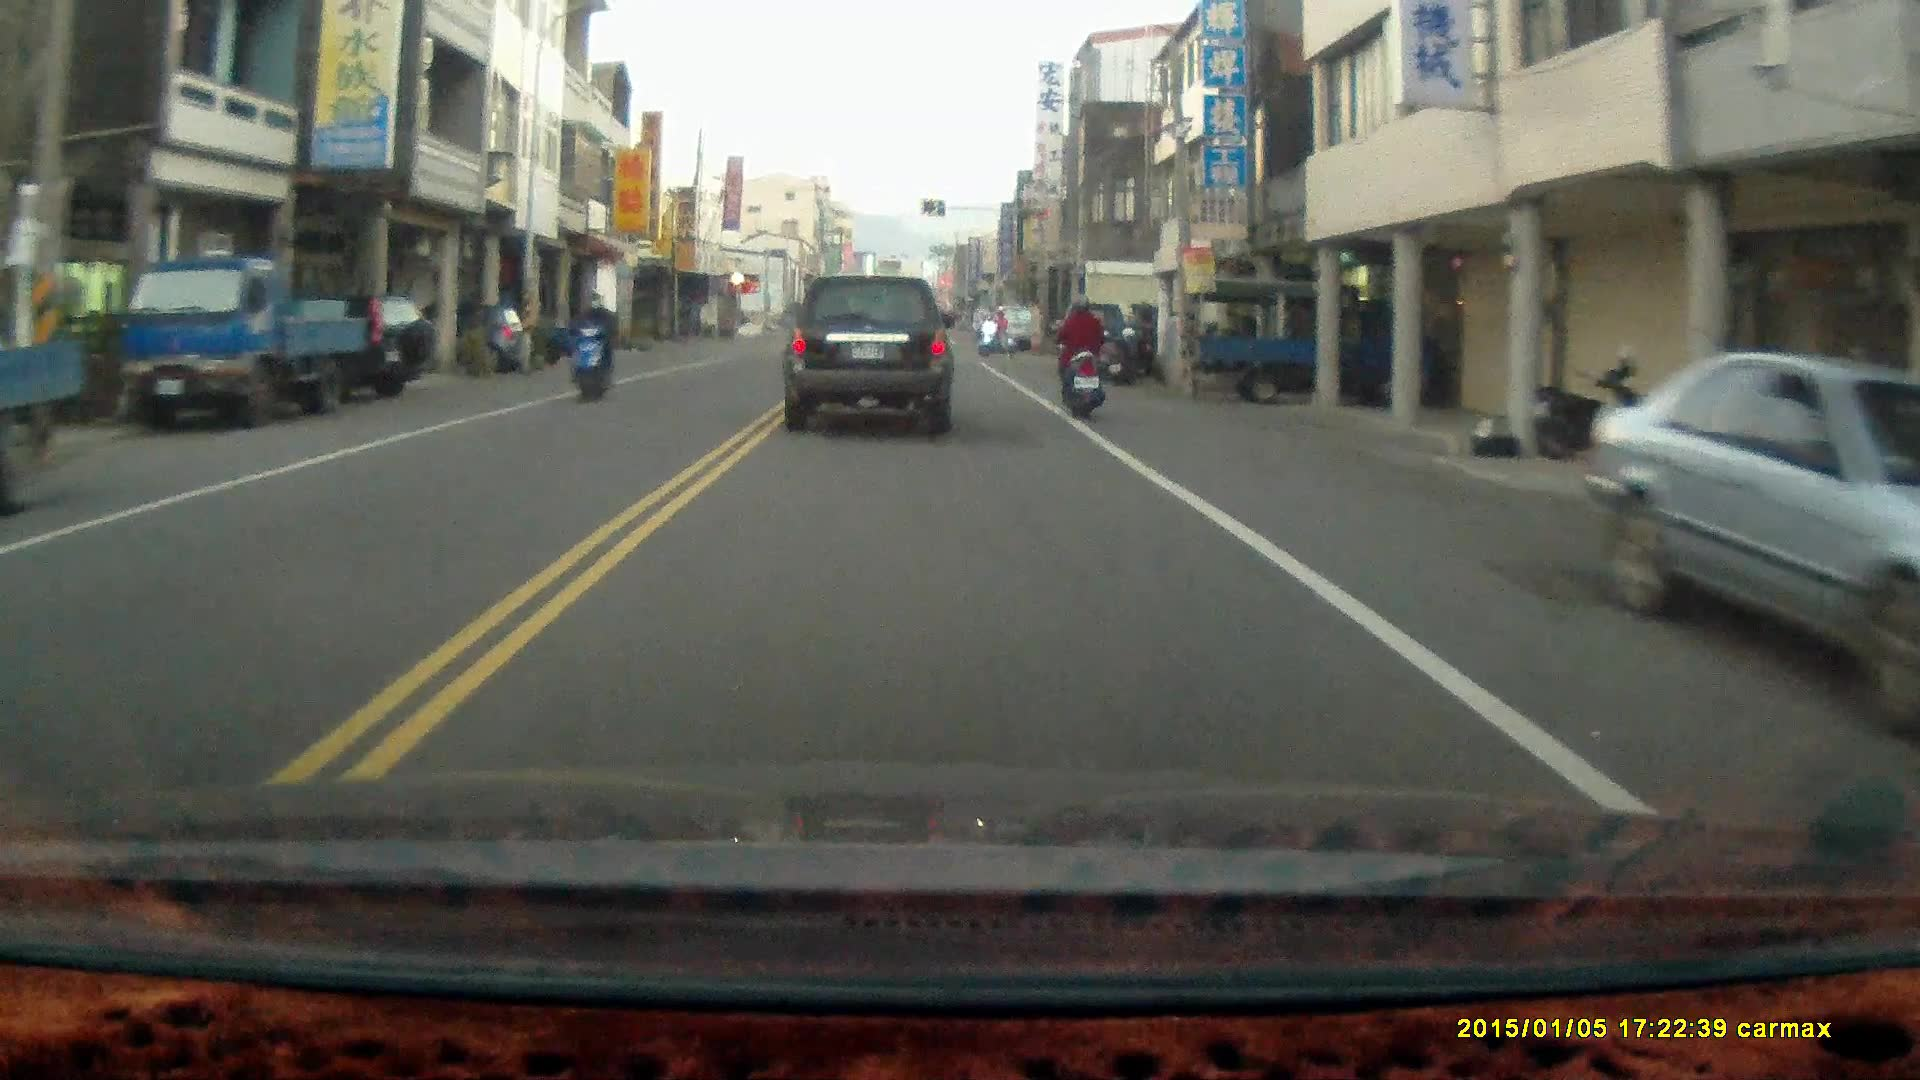rider: (1054, 292, 1106, 423), (566, 286, 617, 401), (976, 303, 1015, 352)
vehicle: (1582, 348, 1920, 723), (106, 251, 365, 425), (1189, 268, 1452, 400), (781, 264, 958, 429), (1, 234, 92, 511), (269, 292, 437, 399)
